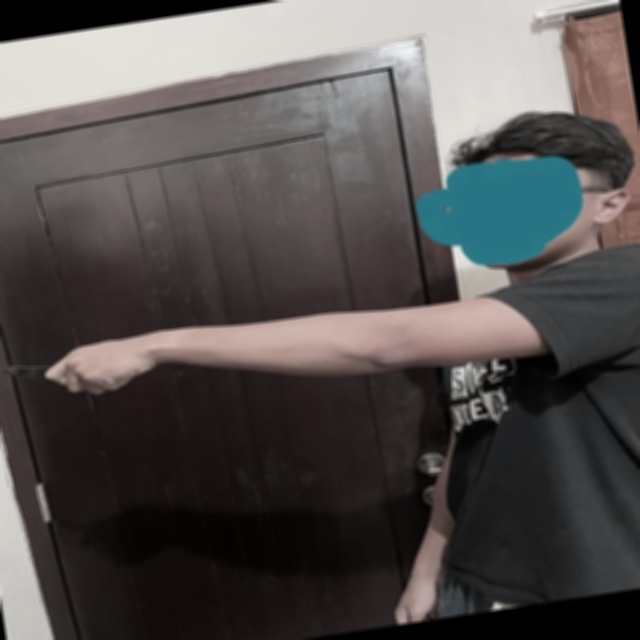Sharp-Object: (1, 360, 54, 386)
